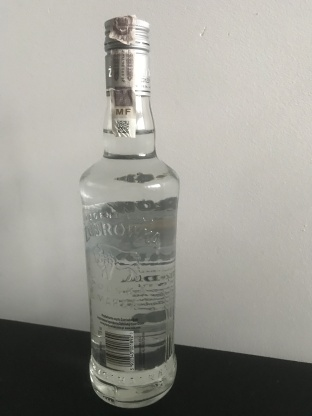nakretka: (102, 13, 153, 96)
